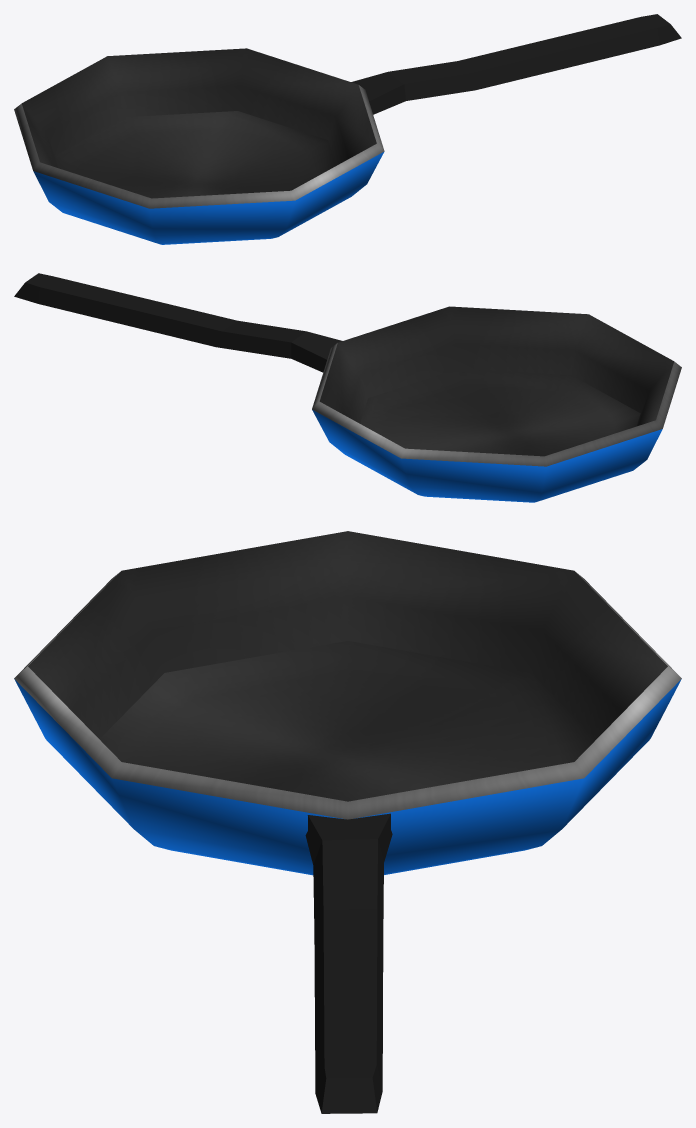
The model's file is Frying_Pan_H.FBX.
The picture shows the model from 3 angles, top to bottom: view 1: azimuth 30°, elevation 25°; view 2: azimuth 150°, elevation 25°; view 3: azimuth 270°, elevation 25°; orthographic projection. The views are drawn at different scales.
Parts seen in each view (by area): view 1: Frying_Pan; view 2: Frying_Pan; view 3: Frying_Pan.
Boxes of the visible parts, left/top/right/bottom form: Frying_Pan: left=14, top=14, right=681, bottom=244; Frying_Pan: left=14, top=273, right=681, bottom=502; Frying_Pan: left=14, top=531, right=681, bottom=1113.
Size of the model in its own units: 141 by 13.23 by 73.2.
